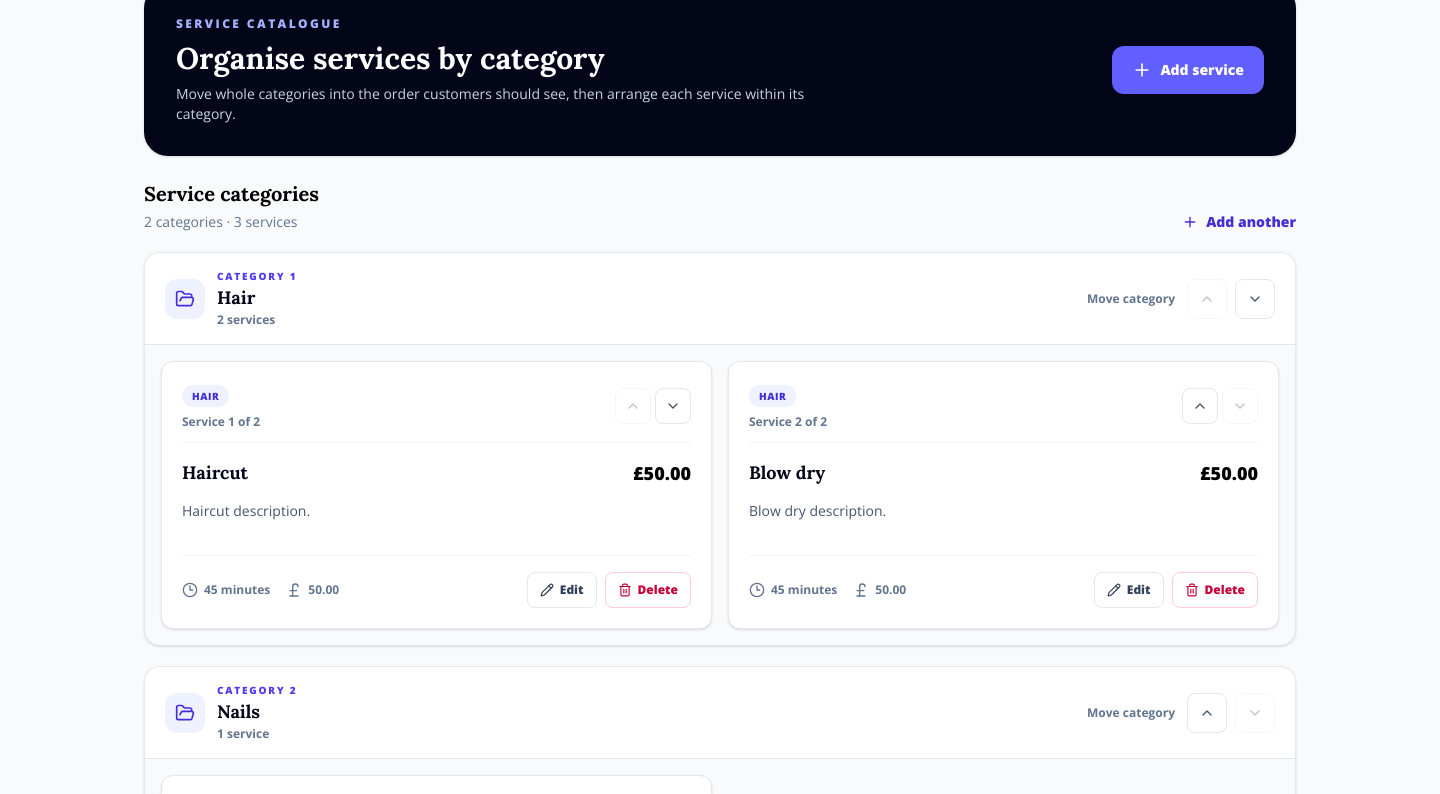
Scenario: ServicesPage › moves an entire category and persists every service in the new order
The width and height of the screenshot is (1440, 794).
Click the button named "Move Nails category up" at (1207, 712), box [1187,692,1227,732]
(page scrolled)
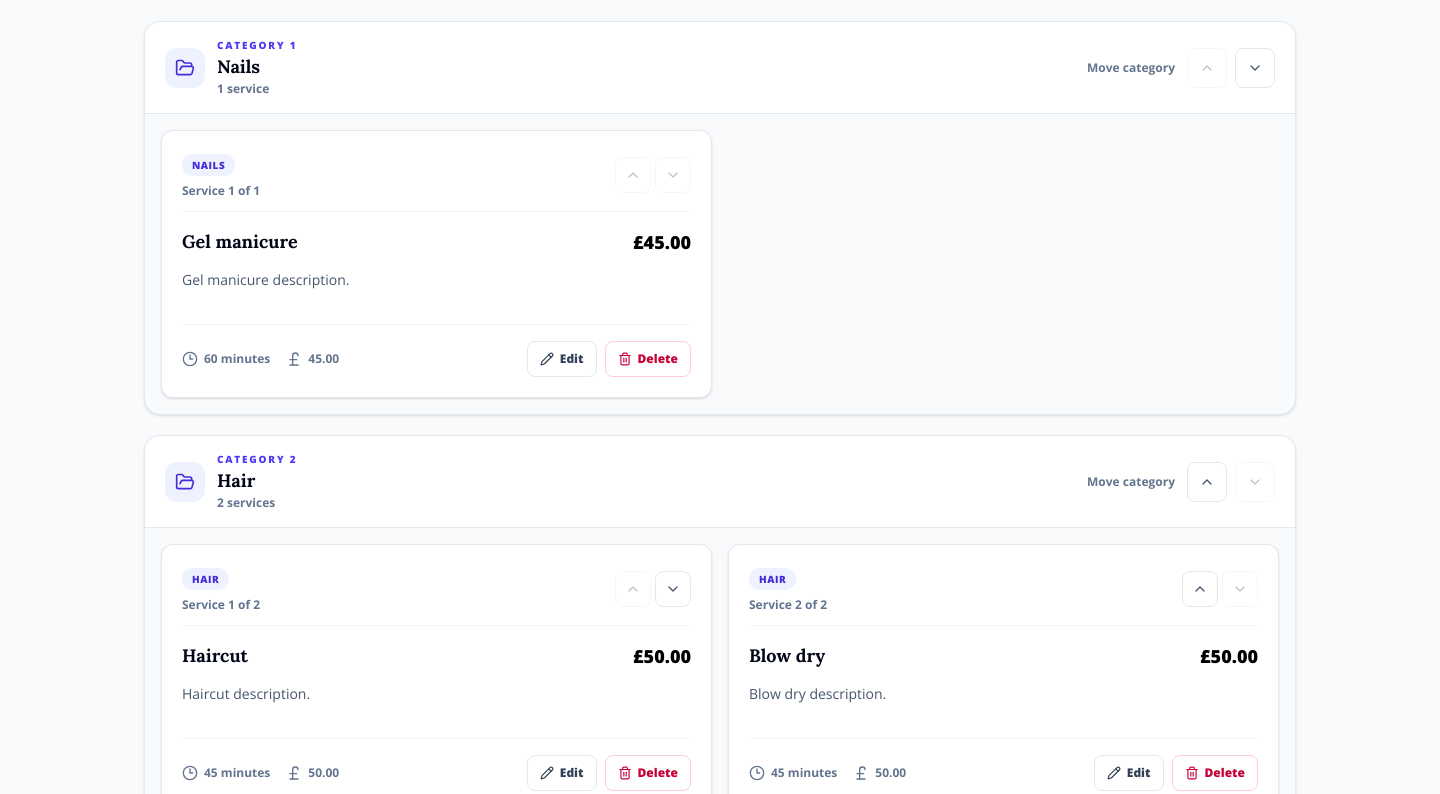
Result: the headings read "Nails", "Hair", in this order at [217,55,260,78]; [217,469,255,492]
